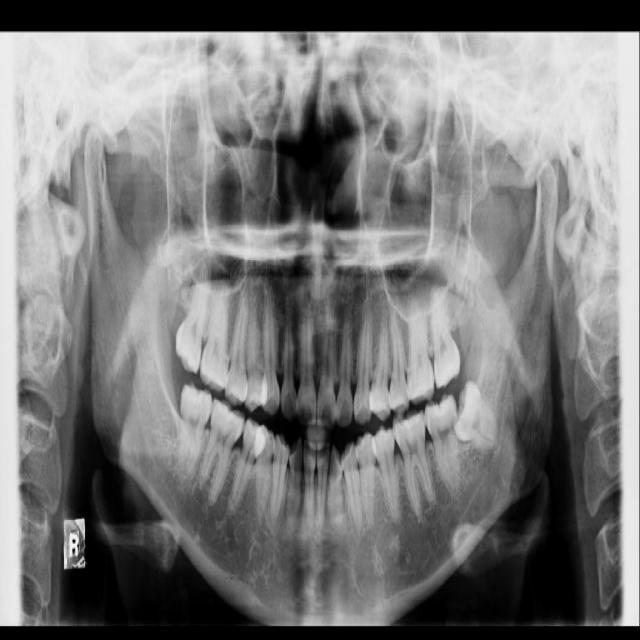Periapical lesion: (193, 481, 211, 505), (424, 505, 440, 518)
impacted tooth: (453, 382, 498, 454)
